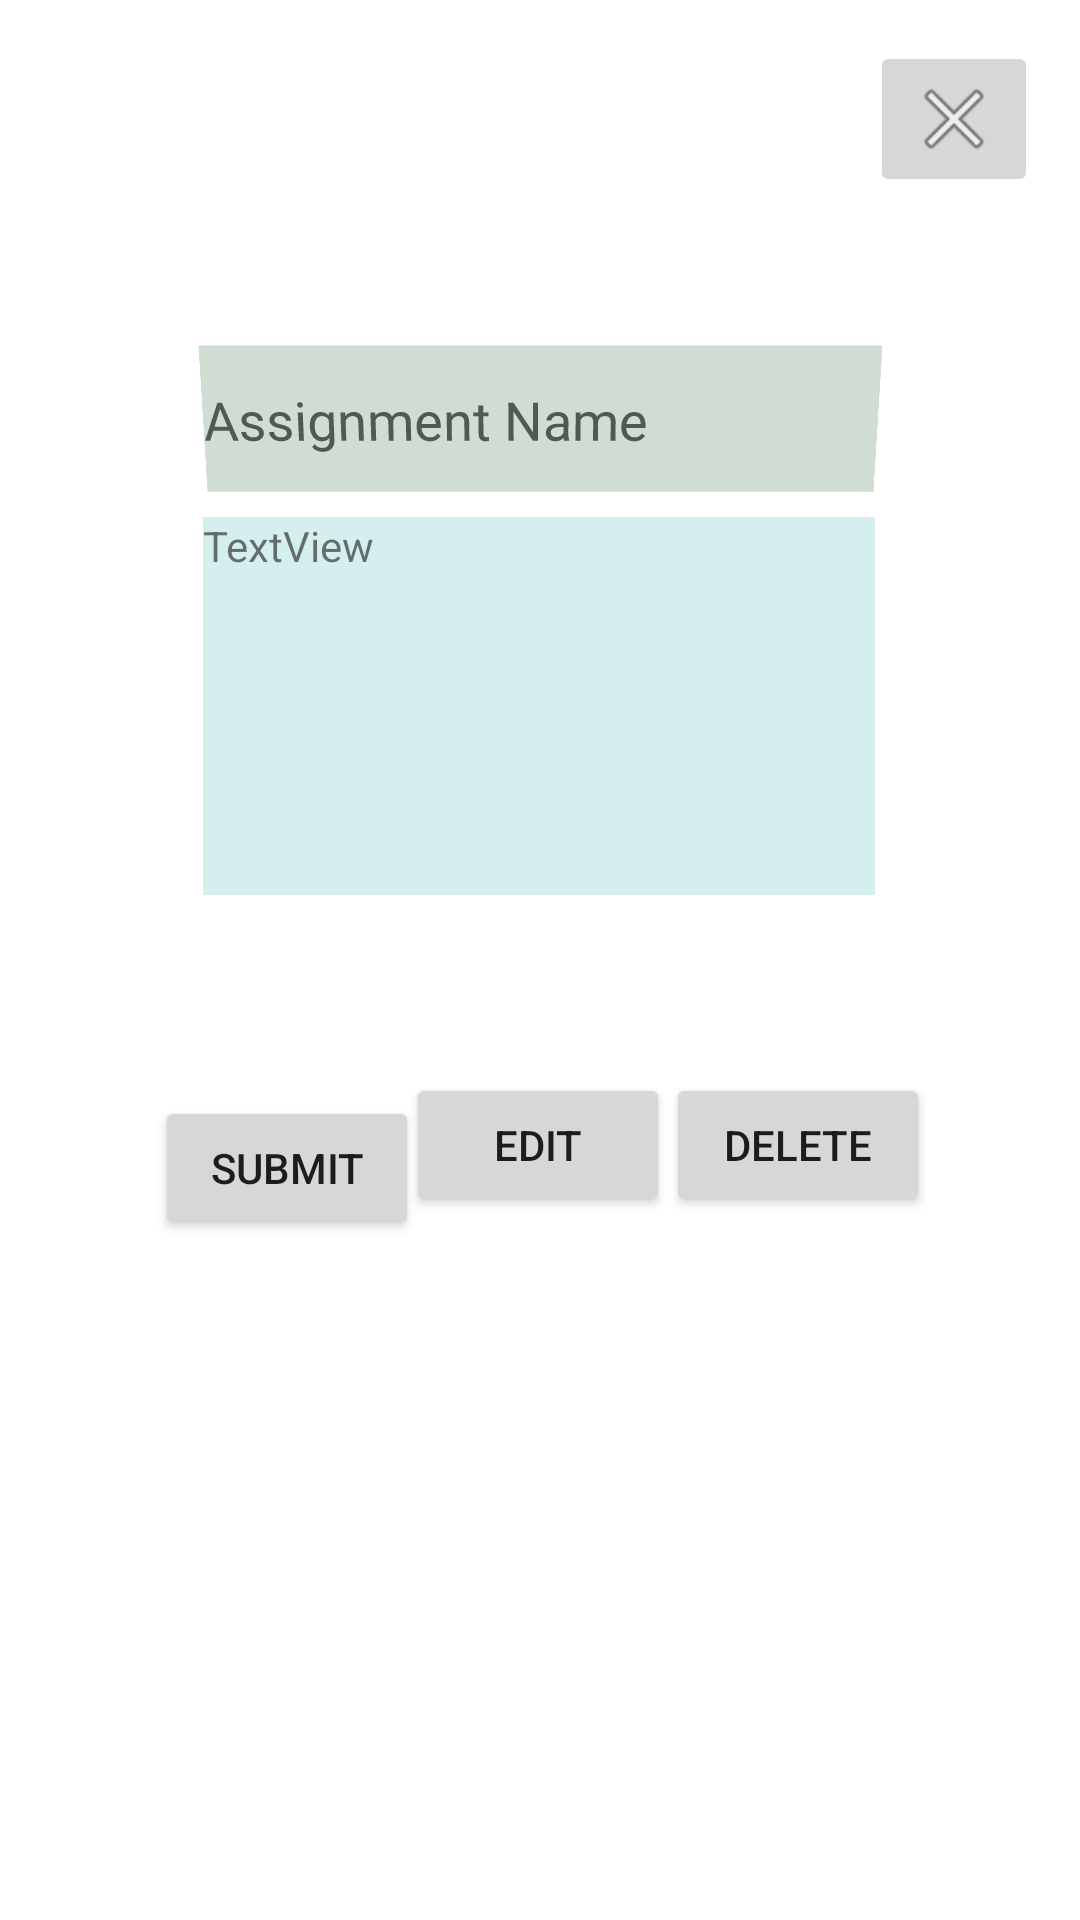

Screen size 1080×1920. Icon name, then its box in pixels as detection(x1, y1, x2, y2):
close clear cancel: detection(882, 59, 1026, 179)
